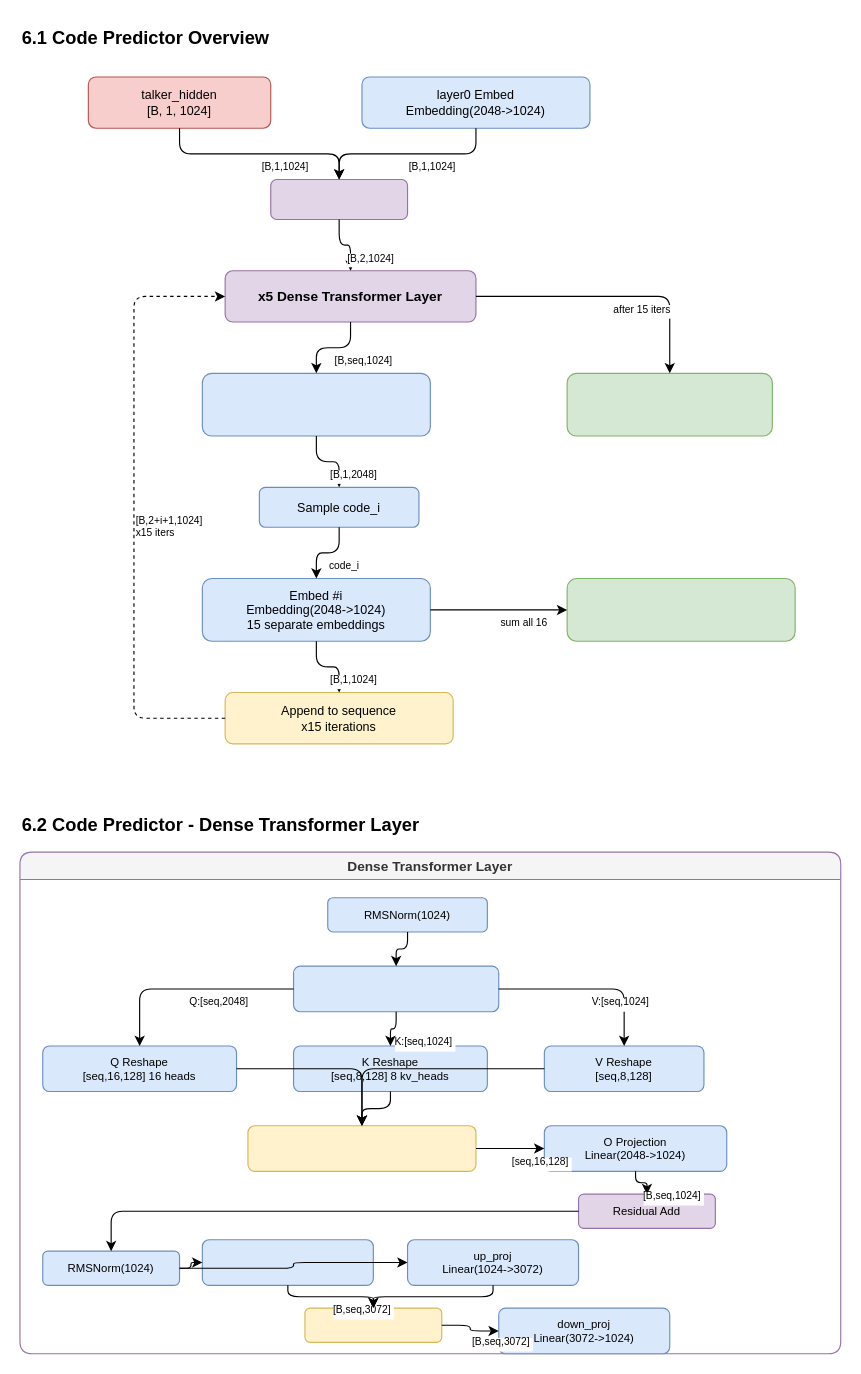
Some shapes in this 861 by 1374 pixel diagram are drawn without their labels. The shapes that lost their labels are listed below. From the top down, each one's centre as x and y in pixels, then its label:
point 339,198: Concat
point 315,404: LM Head #i Linear(1024->2048) 15 separate heads
point 669,404: codes (16 RVQ) [B, 16, seq_len] -> Code2Wav
point 680,609: summed_embed [B, seq_len, 1024] -> feedback to Talker
point 395,988: QKV Projection Linear(1024->4096)
point 361,1148: GQA Attention K,V broadcast 8->16
point 287,1262: gate_proj Linear(1024->3072)
point 373,1324: SiLU(gate)*up
